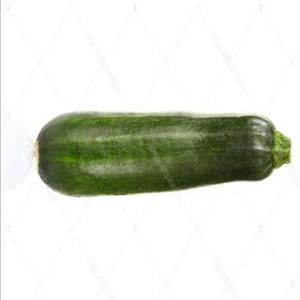zucchini: (35, 106, 297, 194)
